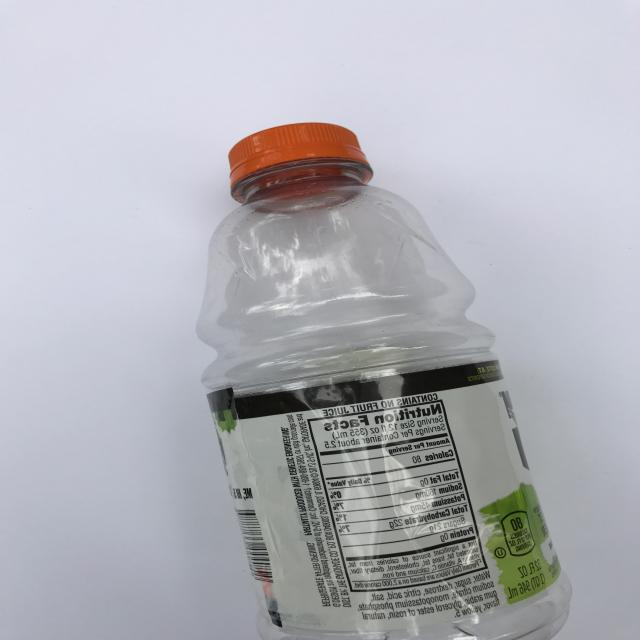plastic: (195, 121, 573, 639)
